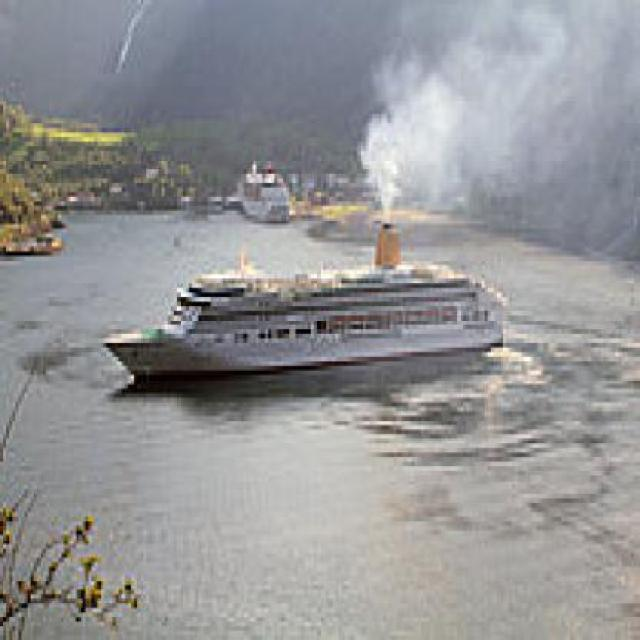cruise: (98, 216, 522, 408)
